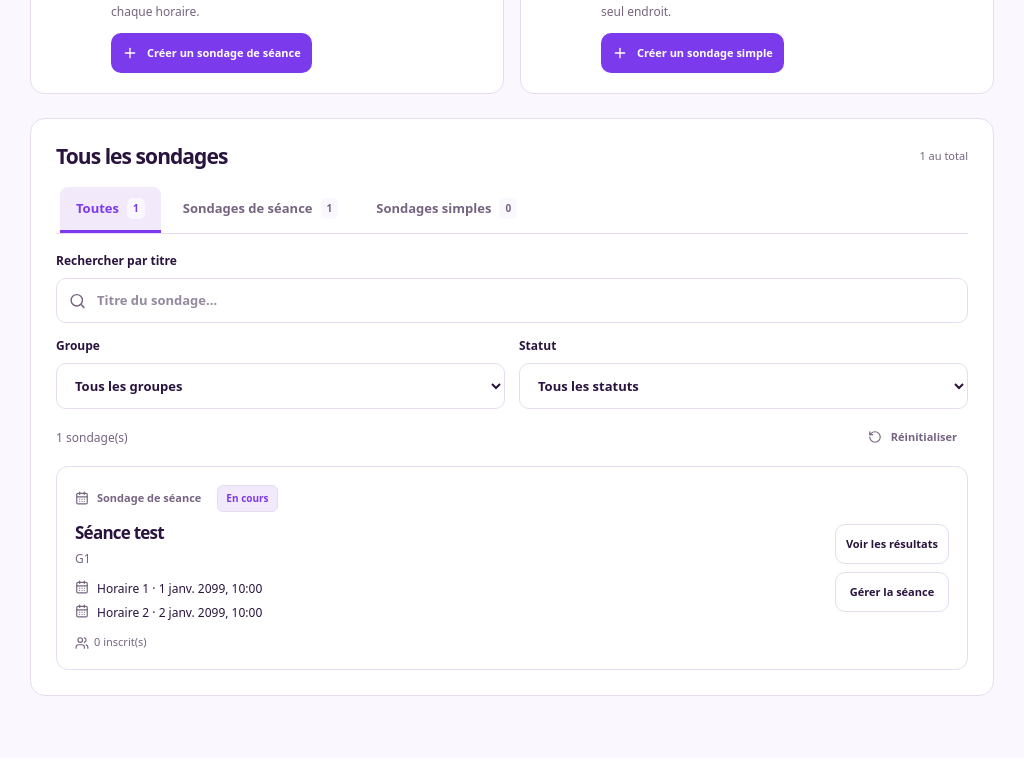
Scenario: keeps the session and reports a deletion failure
(page scrolled)
What coordinates should you click on to do the following:
click the button with aria-label "Gérer la séance : Séance test"
I would click on:
 (892, 592)
Its box is [835,572,949,612].
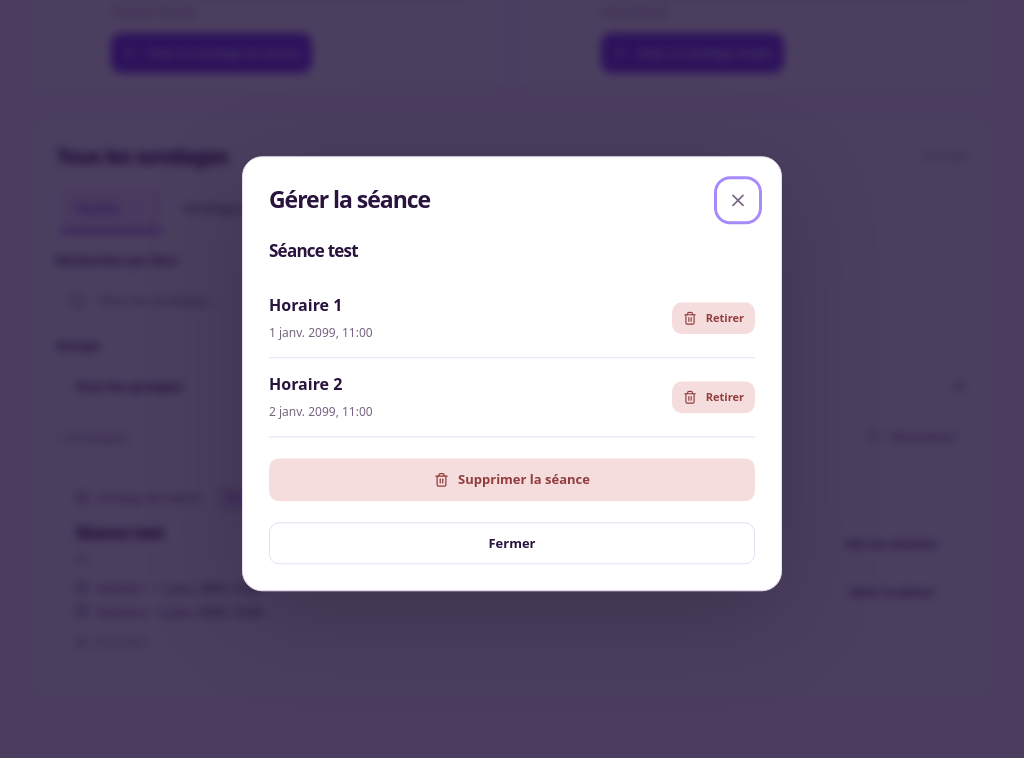
What coordinates should you click on to do the following:
click the button "Supprimer la séance"
I would click on:
 (512, 479)
Its box is [269,458,755,501].
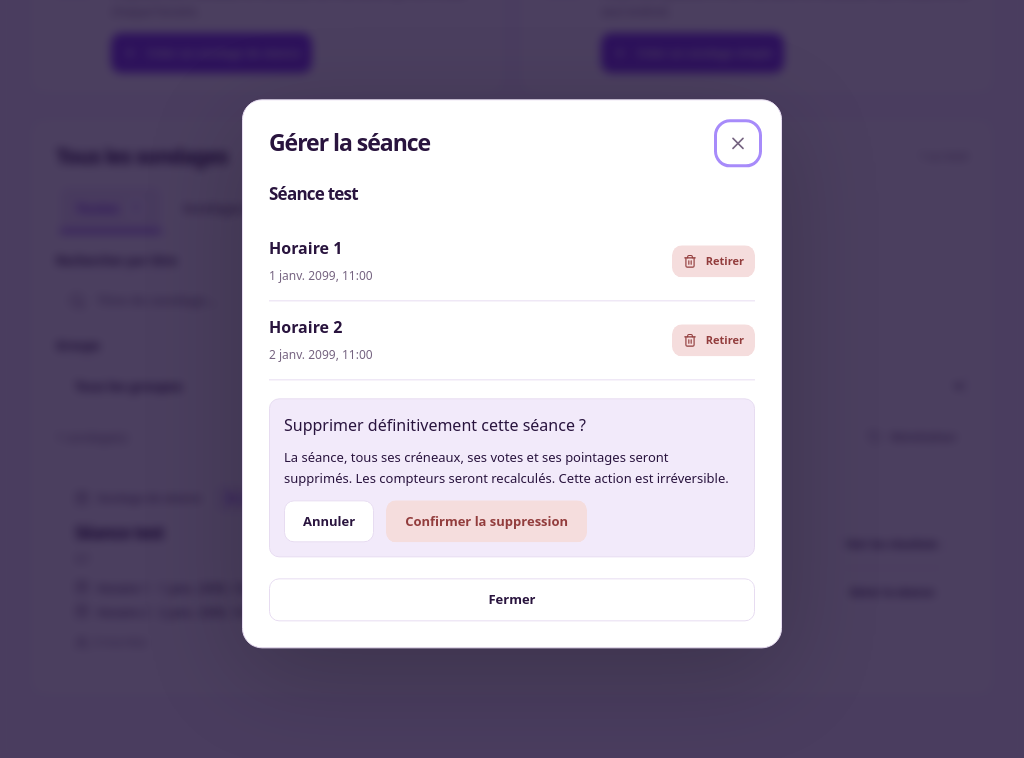
What coordinates should you click on to do the following:
click the button "Confirmer la suppression"
I would click on:
 (487, 521)
Its box is [386,500,587,543].
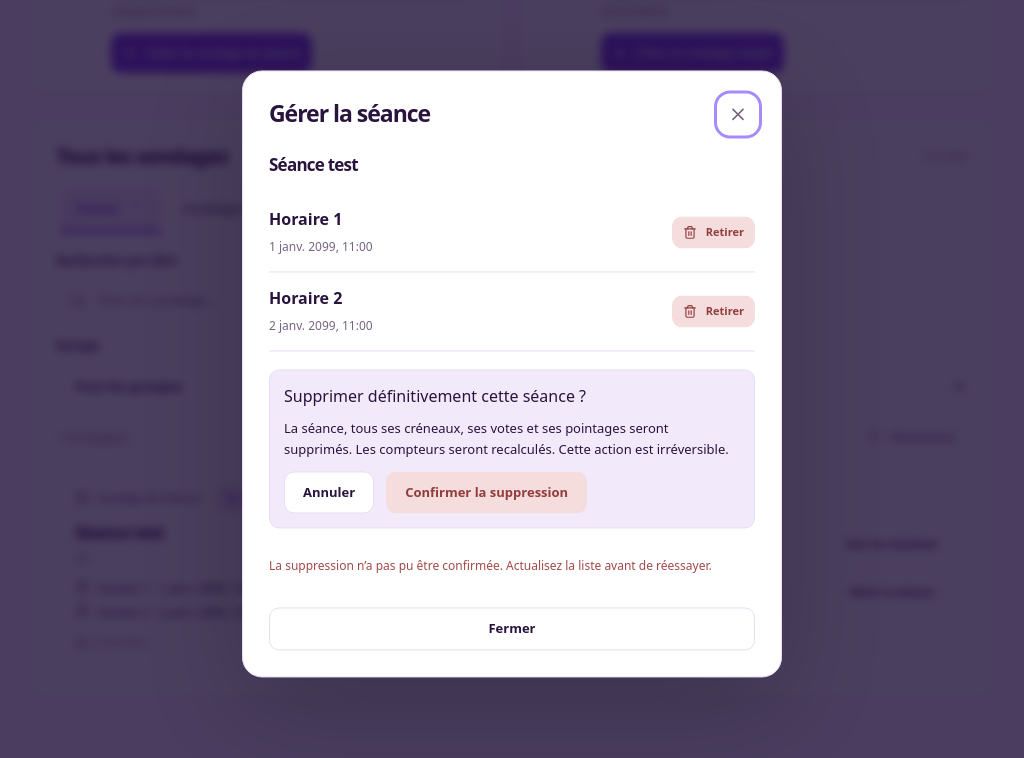
Expected: the message is shown, [269,557,755,577]
